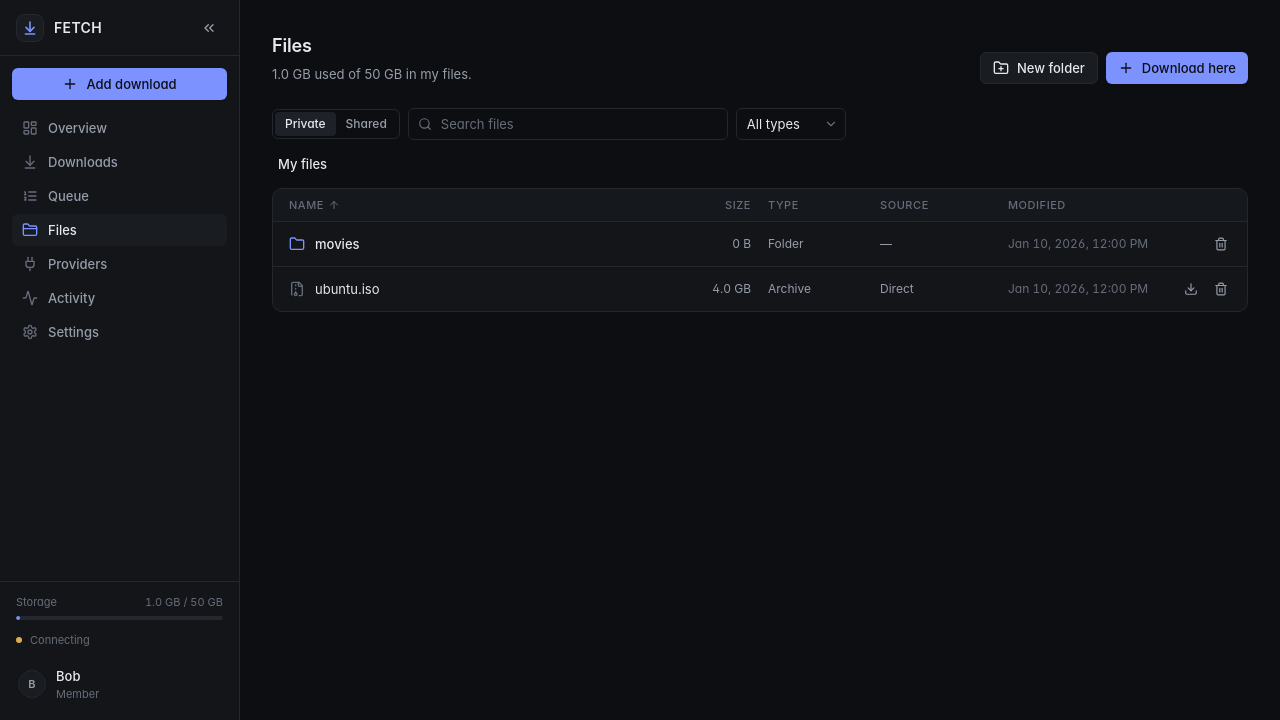
Test: file browser › lists files with a same-origin download link and opens folders
The image size is (1280, 720).
Click the button "movies": x=337, y=244 [315,234,360,254]
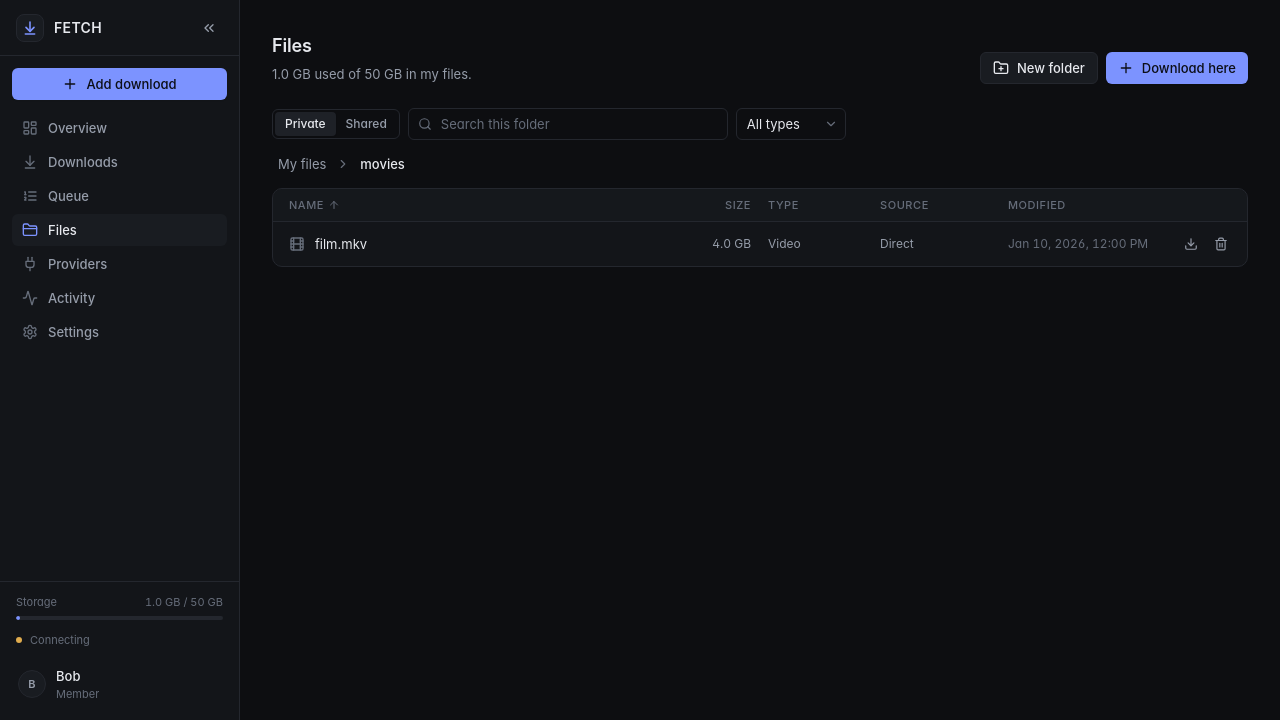
Check: the link "film.mkv" is shown, box [315,234,367,254]
Click the button "My files": x=302, y=164 [272,152,332,176]
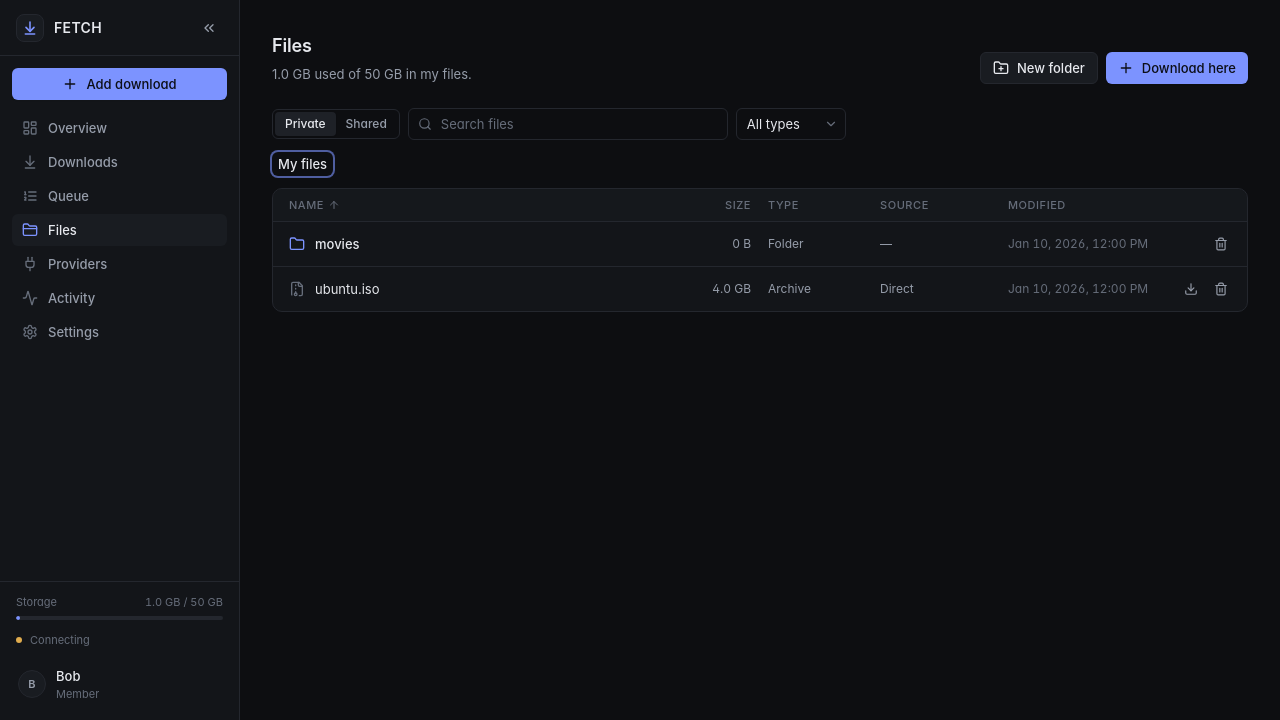
Check: the link "ubuntu.iso" is shown, box [315,279,380,299]
